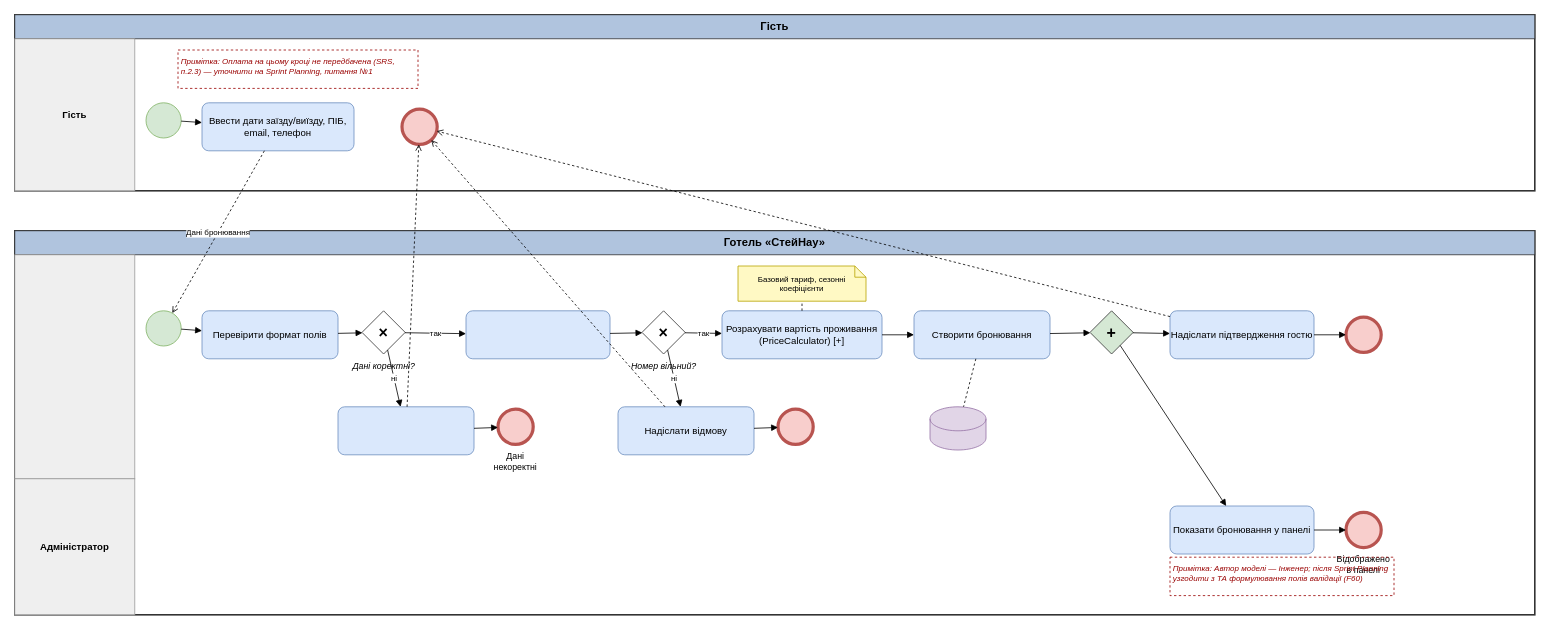
This 1549x629 diagram has some shape labels left out. Each missing label, with the box of its shape:
Бронювання: (929, 406, 986, 450)
Бронювання підтверджено: (1344, 315, 1382, 354)
Гість обрав номер і натиснув «Забронювати»: (145, 102, 181, 138)
Надіслати повідомлення про помилку: (337, 406, 474, 455)
Номер зайнятий: (776, 407, 814, 446)
Отримано дані бронювання: (145, 310, 181, 346)
Перевірити доступність номера (Availability): (465, 310, 610, 359)
Сайт (Система): (14, 254, 135, 479)
Форму надіслано: (400, 107, 438, 146)
